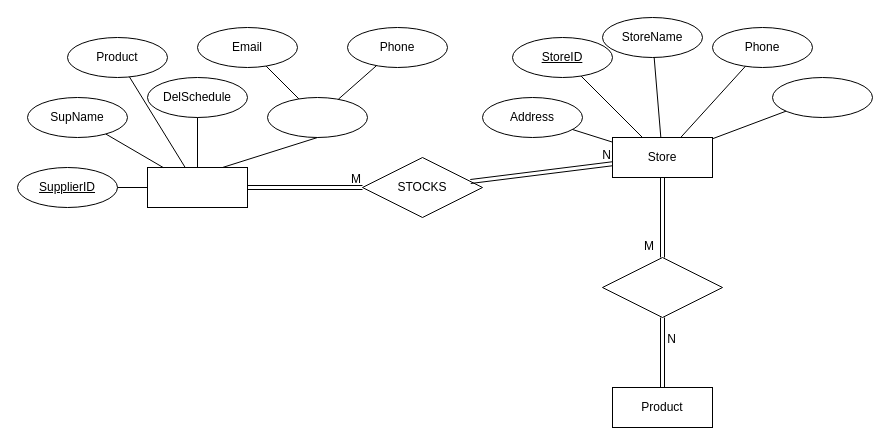
Some shapes in this 890 by 445 pixel diagram are drawn without their labels. Each missing label, with the centre of its shape:
"Contact" goes at (317,117).
"FILLED WITH" goes at (662,287).
"OpenHours" goes at (822,97).
"Supplier" goes at (197,187).
